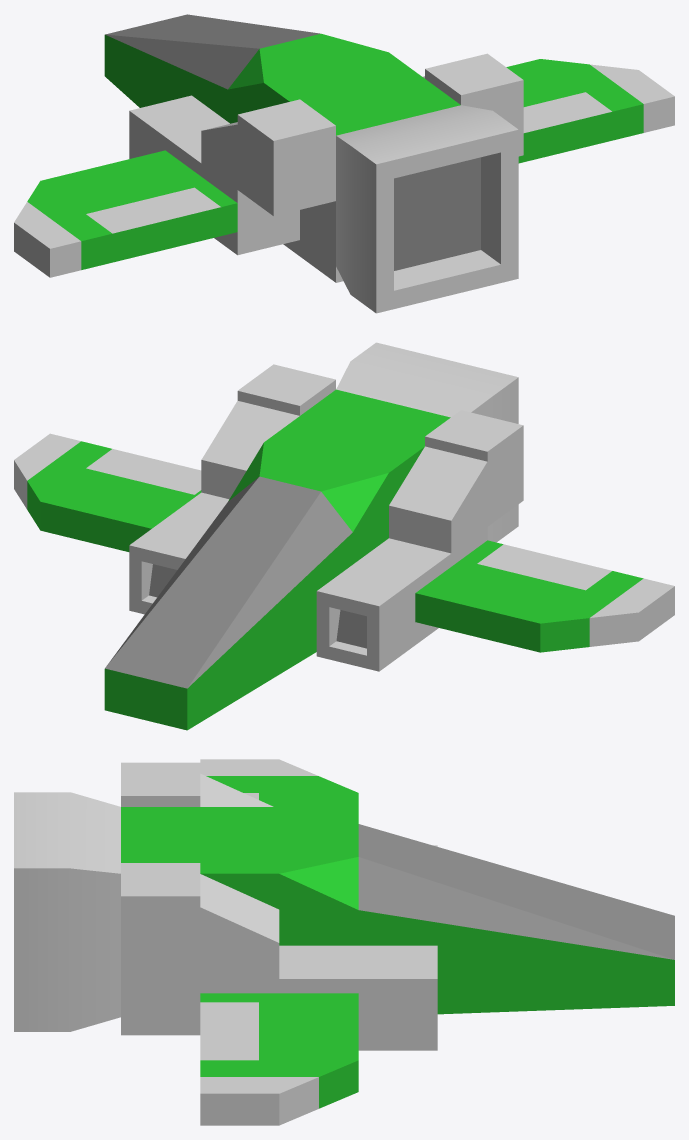
The model's file is spacecraft1.dae.
The picture shows the model from 3 angles, top to bottom: view 1: azimuth 30°, elevation 25°; view 2: azimuth 150°, elevation 25°; view 3: azimuth 270°, elevation 25°; orthographic projection. The views are drawn at different scales.
Parts seen in each view (by area): view 1: spaceCraft1; view 2: spaceCraft1; view 3: spaceCraft1.
Part boxes in pixels (x1,y1,x2,y2): spaceCraft1: (14,14,674,313); spaceCraft1: (14,342,674,730); spaceCraft1: (14,759,674,1125).
Bounding box in the file's own units: 19.75 × 16.5 × 4.75.
